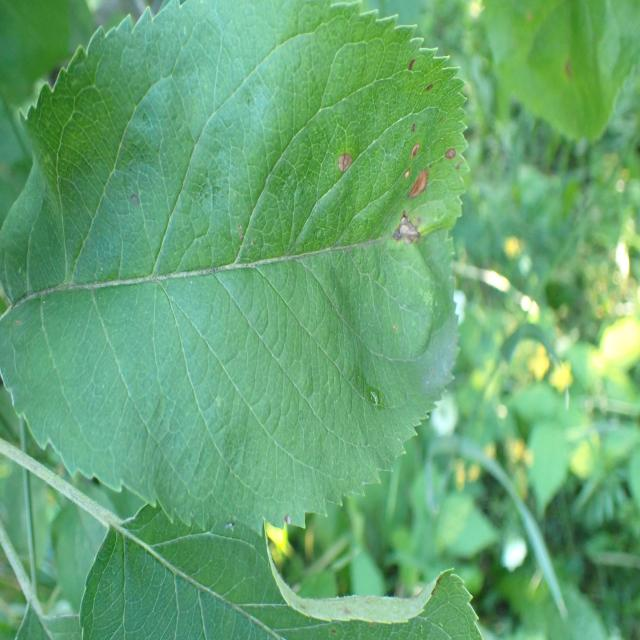Black Rot: (323, 134, 363, 196), (391, 165, 438, 208), (392, 215, 427, 259), (357, 389, 395, 421), (120, 184, 148, 227), (436, 140, 462, 166), (404, 138, 424, 163), (406, 112, 419, 139), (425, 76, 436, 104), (407, 50, 417, 78)
